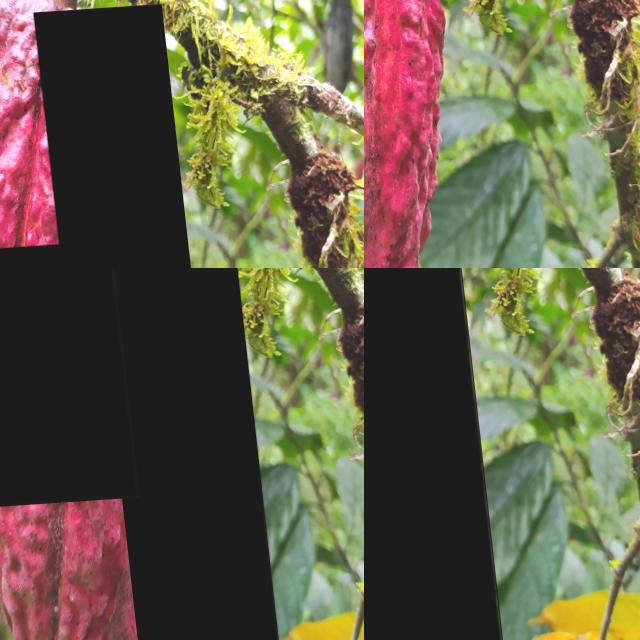Monilia: (89, 268, 268, 640), (0, 268, 129, 509)
Sana: (364, 268, 493, 640), (31, 9, 205, 268)
